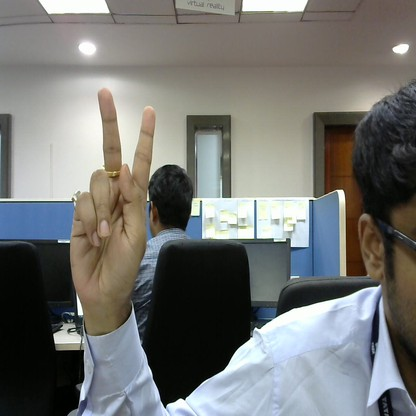k: (62, 83, 156, 327)
